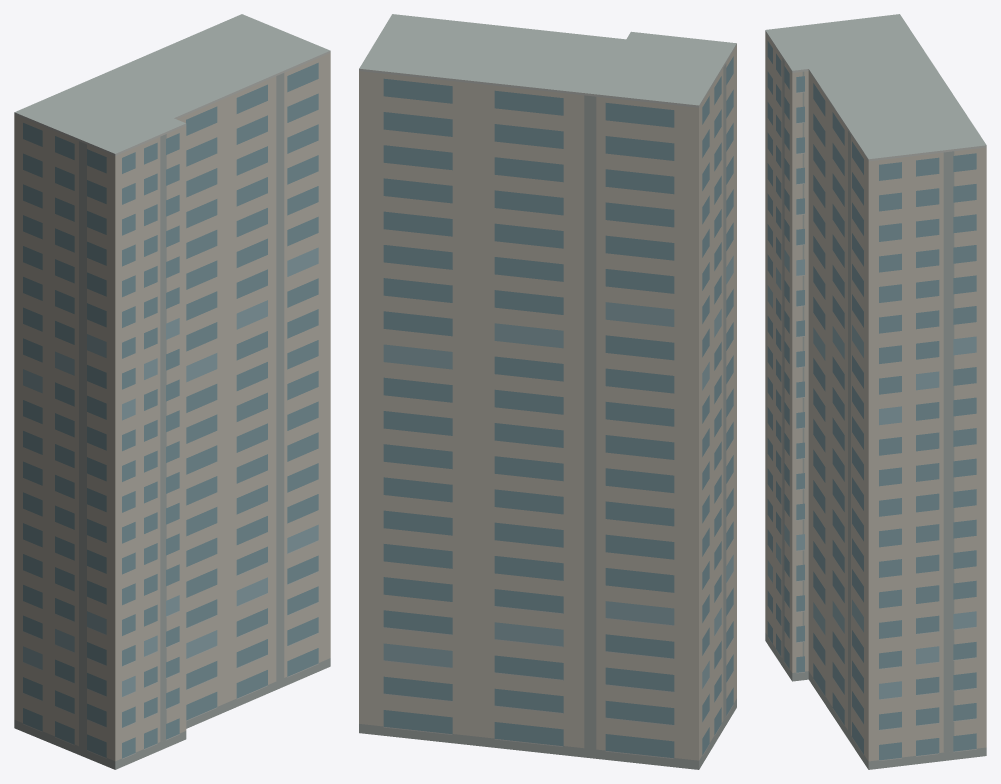
Rendered from residential-0f0b746c-ffc1-4866-9acd-61b24e526e09.glb.
The picture shows the model from 3 angles, left to right: view 1: azimuth 30°, elevation 25°; view 2: azimuth 150°, elevation 25°; view 3: azimuth 270°, elevation 25°; orthographic projection. The views are drawn at different scales.
Parts seen in each view (by area): view 1: residential-0f0b746c-ffc1-4866-9acd-61b24e526e09.tmp; view 2: residential-0f0b746c-ffc1-4866-9acd-61b24e526e09.tmp; view 3: residential-0f0b746c-ffc1-4866-9acd-61b24e526e09.tmp.
Part boxes in pixels (left/top/right/bottom): residential-0f0b746c-ffc1-4866-9acd-61b24e526e09.tmp: left=14, top=14, right=330, bottom=769; residential-0f0b746c-ffc1-4866-9acd-61b24e526e09.tmp: left=359, top=14, right=736, bottom=769; residential-0f0b746c-ffc1-4866-9acd-61b24e526e09.tmp: left=765, top=14, right=986, bottom=769.
Size of the model in its own units: 36.23 by 71 by 23.36.
